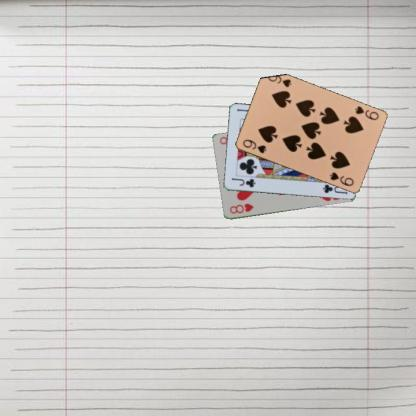8h: (227, 201, 255, 215)
9s: (352, 103, 379, 121), (240, 137, 267, 154)
Jc: (229, 176, 256, 189)
